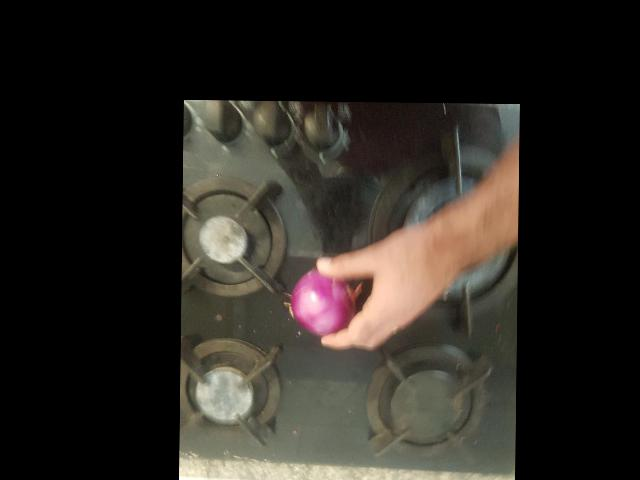onion: (233, 376, 304, 435)
